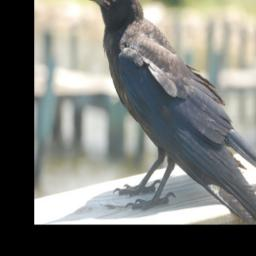Crow: (77, 0, 256, 225)
